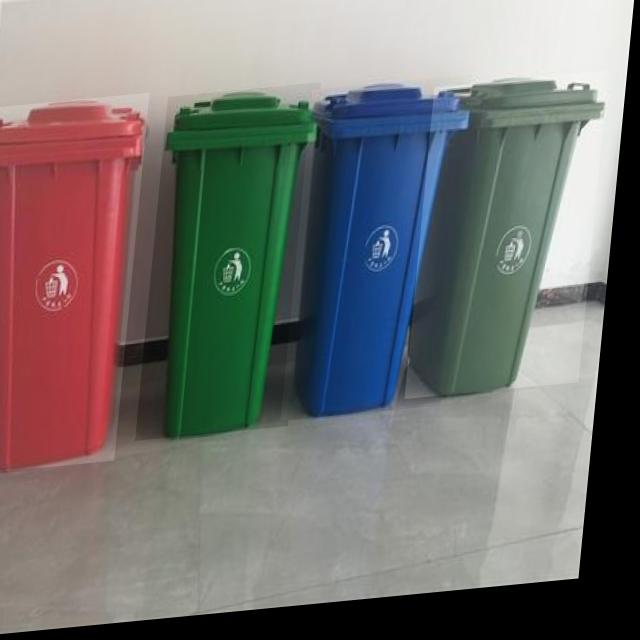garbage_bin: (413, 83, 611, 408), (144, 89, 323, 444), (290, 84, 475, 427), (0, 96, 152, 476)
